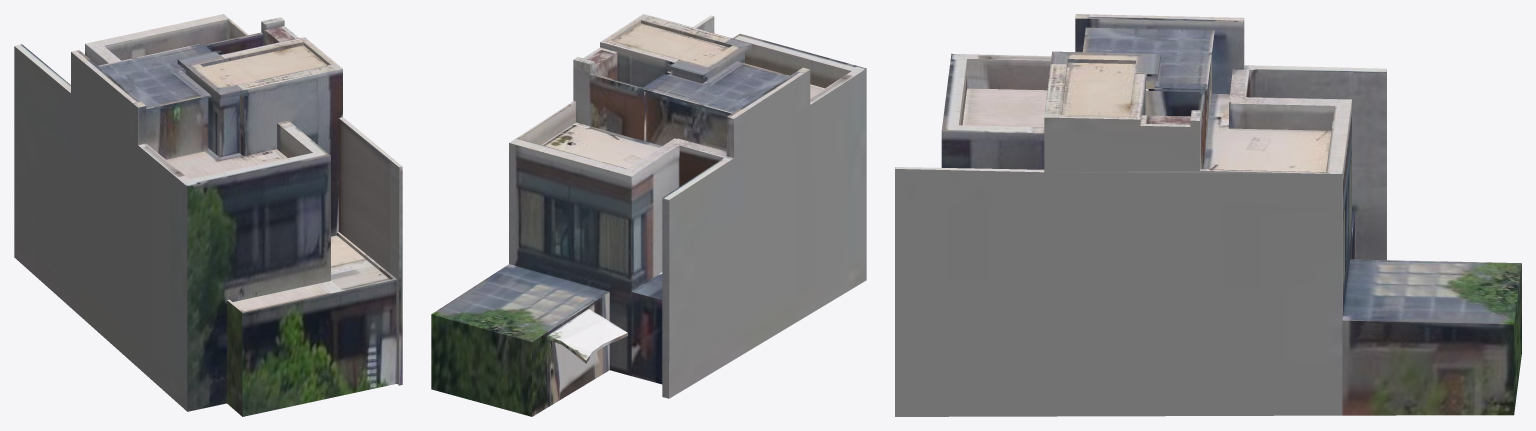
3 renders of one model, left to right at view 1: azimuth 30°, elevation 25°; view 2: azimuth 150°, elevation 25°; view 3: azimuth 270°, elevation 25°, orthographic. The views are drawn at different scales.
Parts seen in each view (by area): view 1: B286104029201062A0; view 2: B286104029201062A0; view 3: B286104029201062A0.
Part boxes in pixels (left/top/right/bottom): B286104029201062A0: left=14, top=14, right=402, bottom=416; B286104029201062A0: left=431, top=14, right=866, bottom=416; B286104029201062A0: left=895, top=14, right=1521, bottom=416.
Size of the model in its own units: 9.57 by 11.3 by 21.2.
Materials: 1 (1 with a texture image).
